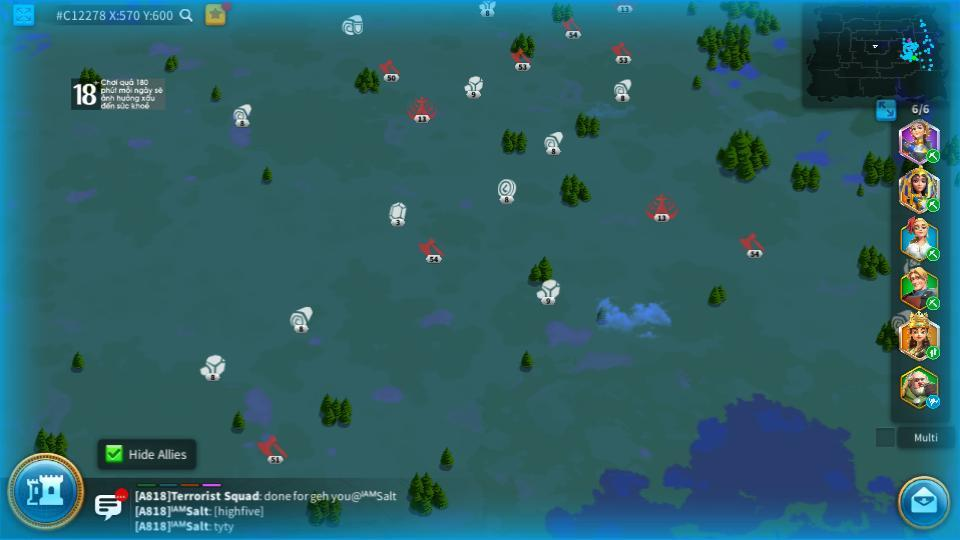gem-z-out: (387, 202, 406, 226)
march_farming: (925, 197, 941, 212), (925, 149, 941, 162), (926, 297, 941, 308)
march_idle: (925, 396, 942, 408)
march_marching: (925, 347, 941, 359)
